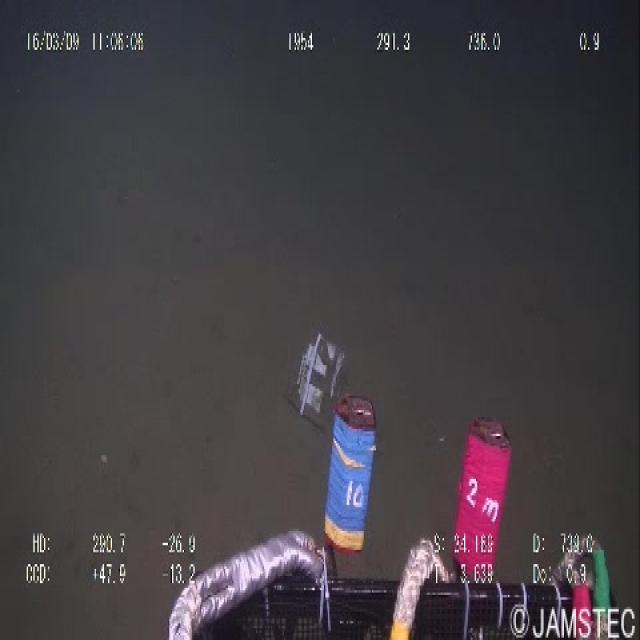plastic: (288, 322, 349, 420)
